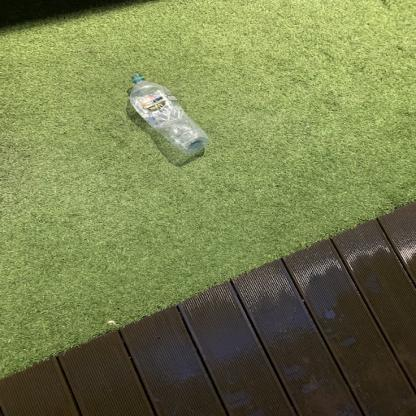trash: (128, 74, 213, 154)
